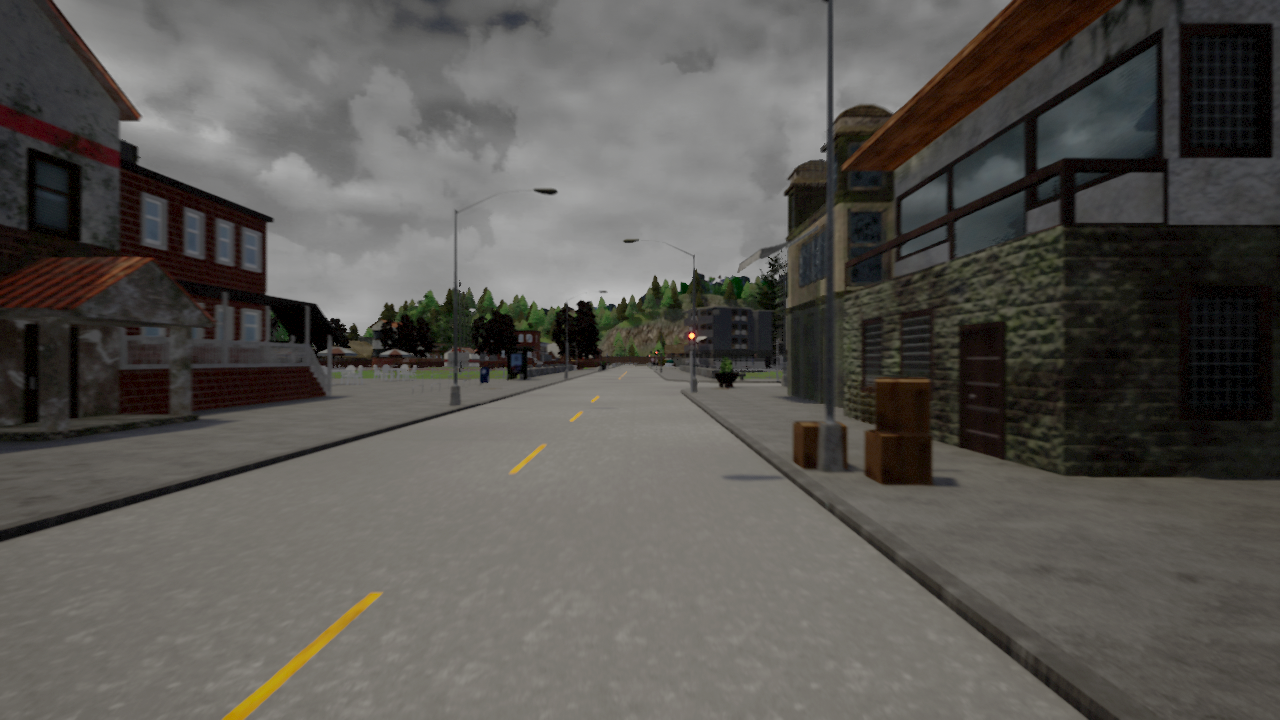red: (687, 331, 695, 352)
